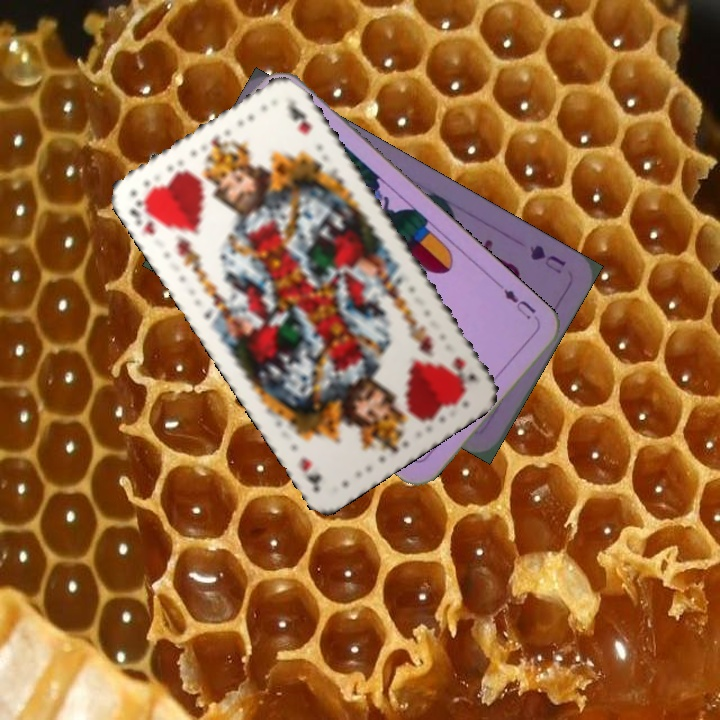EU: (499, 285, 543, 328)
GU: (525, 241, 569, 276)
HK: (124, 194, 165, 238), (448, 353, 480, 393)
